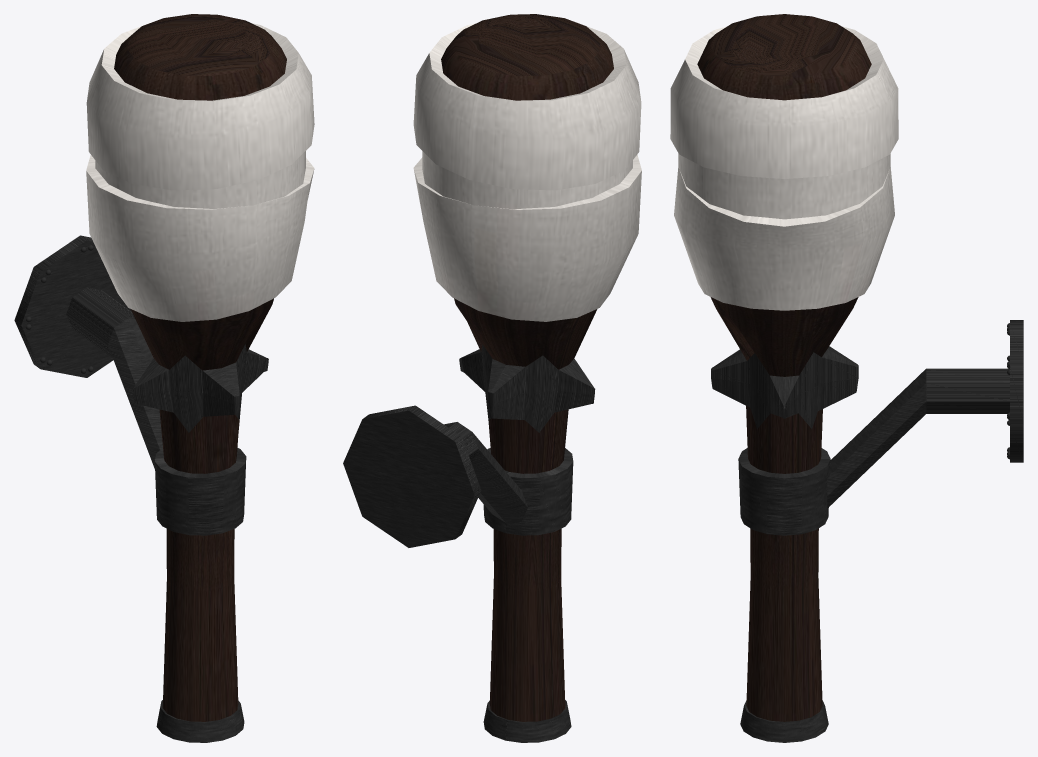
Rendered from spellchase torch.fbx.
The picture shows the model from 3 angles, left to right: view 1: azimuth 30°, elevation 25°; view 2: azimuth 150°, elevation 25°; view 3: azimuth 270°, elevation 25°; orthographic projection.
Visible parts, largest first — view 1: Cylinder001, Object001, Object003, Cylinder002, Object004, Object006, Object002, Object005; view 2: Cylinder001, Object001, Object003, Cylinder002, Object004, Object002, Object006, Object005; view 3: Cylinder001, Object003, Object001, Cylinder002, Object002, Object004, Object006, Object005.
Part boxes in pixels (left/top/right/bottom): Cylinder001: left=114, top=14, right=286, bottom=721; Object001: left=86, top=154, right=314, bottom=321; Object003: left=86, top=22, right=314, bottom=190; Cylinder002: left=14, top=235, right=162, bottom=468; Object004: left=133, top=344, right=268, bottom=432; Object006: left=154, top=447, right=246, bottom=535; Object002: left=95, top=151, right=305, bottom=208; Object005: left=156, top=700, right=244, bottom=742; Cylinder001: left=441, top=14, right=613, bottom=721; Object001: left=413, top=154, right=641, bottom=321; Object003: left=413, top=23, right=641, bottom=190; Cylinder002: left=343, top=405, right=527, bottom=547; Object004: left=459, top=344, right=595, bottom=432; Object002: left=422, top=151, right=632, bottom=209; Object006: left=483, top=448, right=573, bottom=535; Object005: left=483, top=700, right=571, bottom=742; Cylinder001: left=697, top=14, right=871, bottom=721; Object003: left=670, top=26, right=898, bottom=178; Object001: left=674, top=167, right=894, bottom=310; Cylinder002: left=827, top=320, right=1023, bottom=508; Object002: left=678, top=153, right=890, bottom=219; Object004: left=711, top=346, right=858, bottom=428; Object006: left=738, top=448, right=830, bottom=535; Object005: left=740, top=700, right=828, bottom=742.
Bounding box in the file's own units: 18.4 × 27.74 × 59.39.
Materials: 3 (3 with a texture image).
